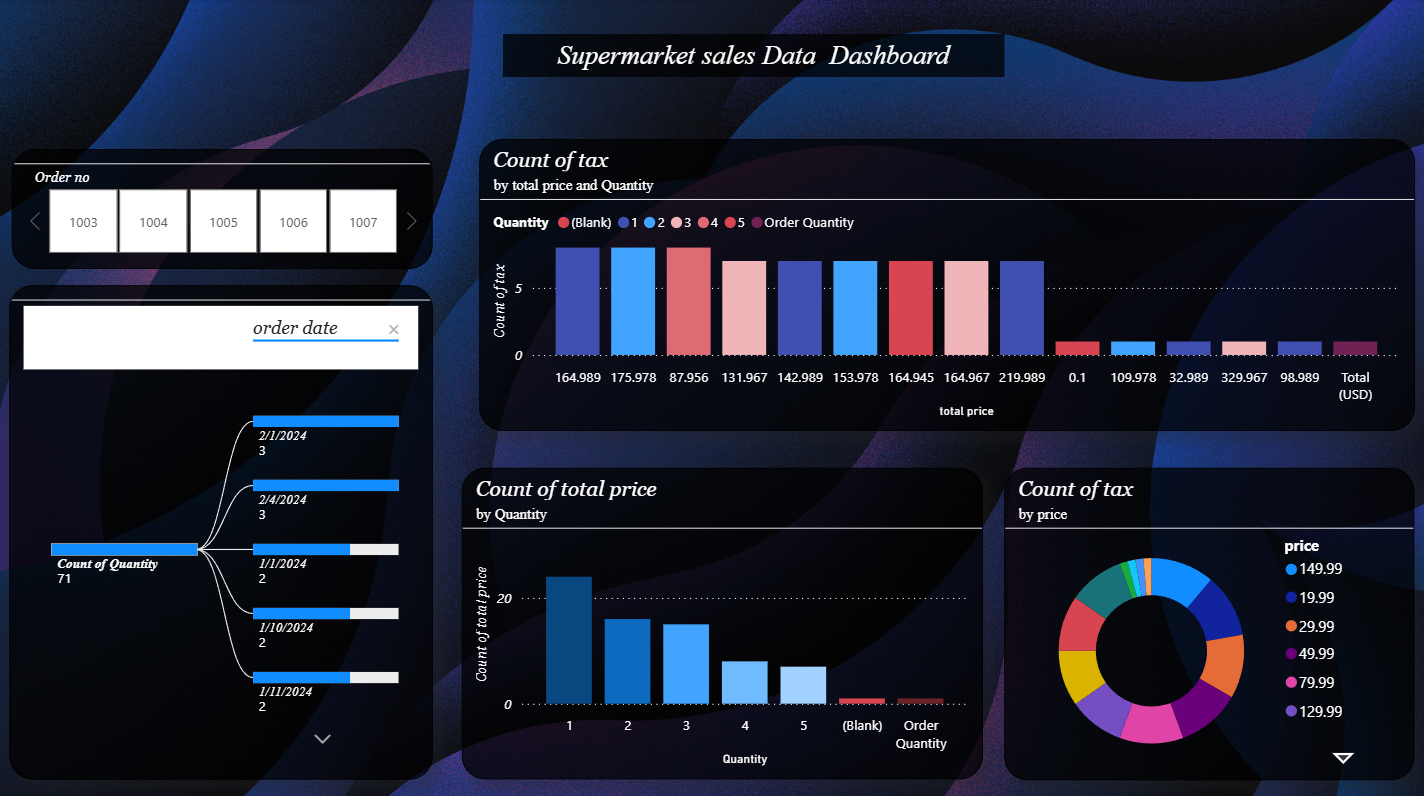

The page's visual inventory and layout, read from the dashboard file:
{"tool":"powerbi","page":{"name":"Page 1","canvas":[1280,720],"ordinal":0},"visuals":[{"type":"textbox","box":[456,31,447.6,38.1],"z":0},{"type":"lineStackedColumnComboChart","fields":{"Category":["SuperMarket Sales.Quantity"],"Y":["CountNonNull(SuperMarket Sales.total price)"]},"box":[419,419,465.5,278.6],"z":1000},{"type":"slicer","fields":{"Values":["SuperMarket Sales.Order no"]},"box":[16.7,134.5,376.2,107.1],"z":2000},{"type":"decompositionTreeVisual","fields":{"ExplainBy":["SuperMarket Sales.order date"],"Analyze":["CountNonNull(SuperMarket Sales.Quantity)"]},"box":[14.3,256,378.6,441.7],"z":3000},{"type":"lineStackedColumnComboChart","fields":{"Y":["CountNonNull(SuperMarket Sales.tax)"],"Category":["SuperMarket Sales.total price"],"Series":["SuperMarket Sales.Quantity"]},"box":[434.5,125,835.7,260.7],"z":4000},{"type":"donutChart","fields":{"Category":["SuperMarket Sales.price"],"Y":["CountNonNull(SuperMarket Sales.tax)"]},"box":[903.5,418.6,366.3,279.1],"z":5000}]}

Visuals, with their boxes in screenshot pixels (x1, y1, x2, y2), scaled from the page's 1280x720 canvas onto the 1424x796 screenshot:
textbox: x1=507, y1=34, x2=1005, y2=76
lineStackedColumnComboChart - SuperMarket Sales.Quantity x CountNonNull(SuperMarket Sales.total price): x1=466, y1=463, x2=984, y2=771
slicer - SuperMarket Sales.Order no: x1=19, y1=149, x2=437, y2=267
decompositionTreeVisual - SuperMarket Sales.order date x CountNonNull(SuperMarket Sales.Quantity): x1=16, y1=283, x2=437, y2=771
lineStackedColumnComboChart - CountNonNull(SuperMarket Sales.tax) x SuperMarket Sales.total price: x1=483, y1=138, x2=1413, y2=426
donutChart - SuperMarket Sales.price x CountNonNull(SuperMarket Sales.tax): x1=1005, y1=463, x2=1413, y2=771
